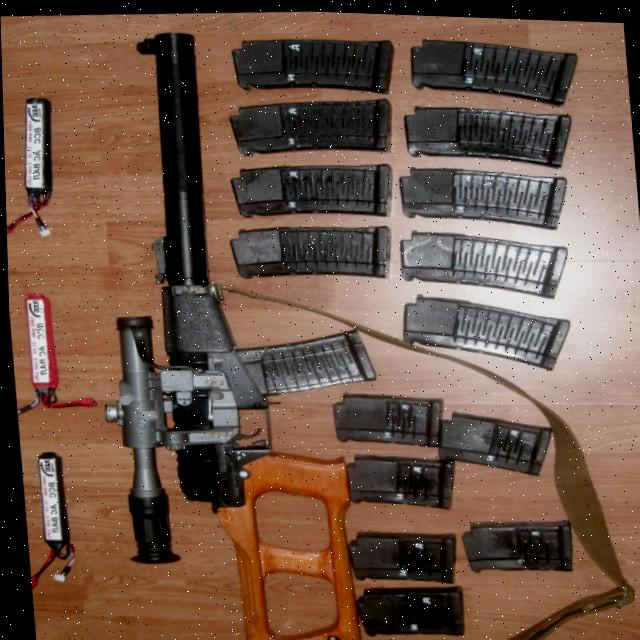firearm: (71, 18, 395, 640)
